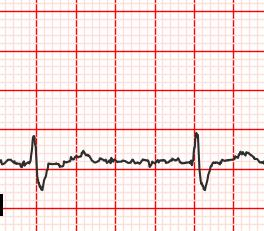LVH: (217, 145, 264, 170)
Poor R Progression: (22, 130, 47, 169)
ST Depression: (184, 157, 227, 193), (20, 159, 55, 194)
